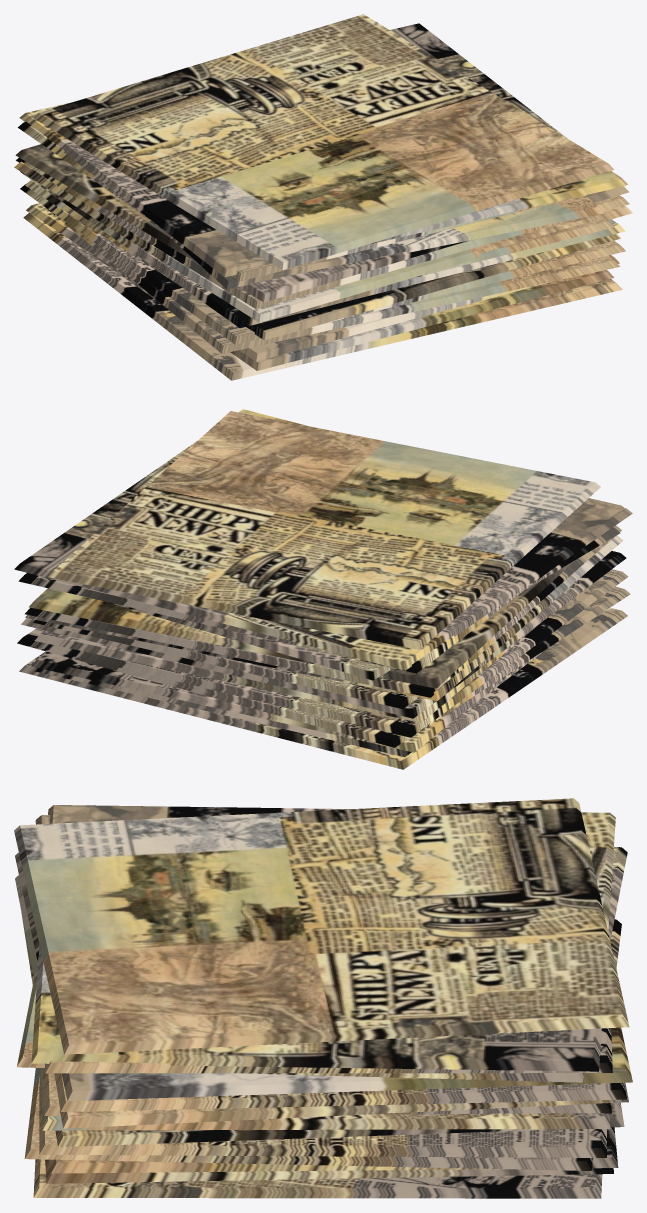
File: PILE NEWSPAPERS.fbx
3 views of the same model, one above another, from view 1: azimuth 30°, elevation 25°; view 2: azimuth 150°, elevation 25°; view 3: azimuth 270°, elevation 25° (orthographic). The views are drawn at different scales.
Parts seen in each view (by area): view 1: PILE NEWSPAPERS; view 2: PILE NEWSPAPERS; view 3: PILE NEWSPAPERS.
Boxes of the visible parts, x1,y1,x2,y2 form: PILE NEWSPAPERS: (14, 14, 632, 380); PILE NEWSPAPERS: (14, 409, 632, 769); PILE NEWSPAPERS: (14, 798, 632, 1198).
Bounding box in the file's own units: 0.5945 × 0.1614 × 0.5744.
